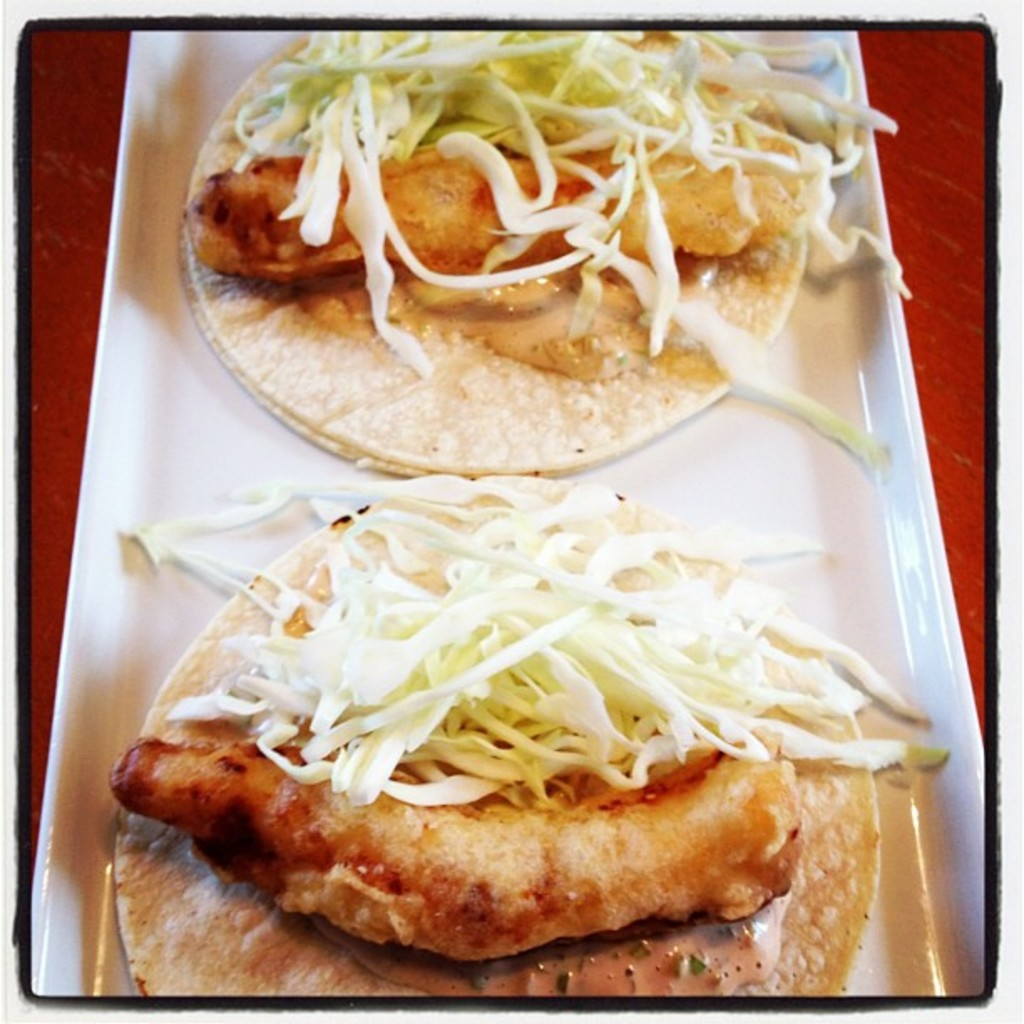taco: (100, 480, 900, 1017), (107, 467, 878, 1022), (192, 22, 825, 499)
